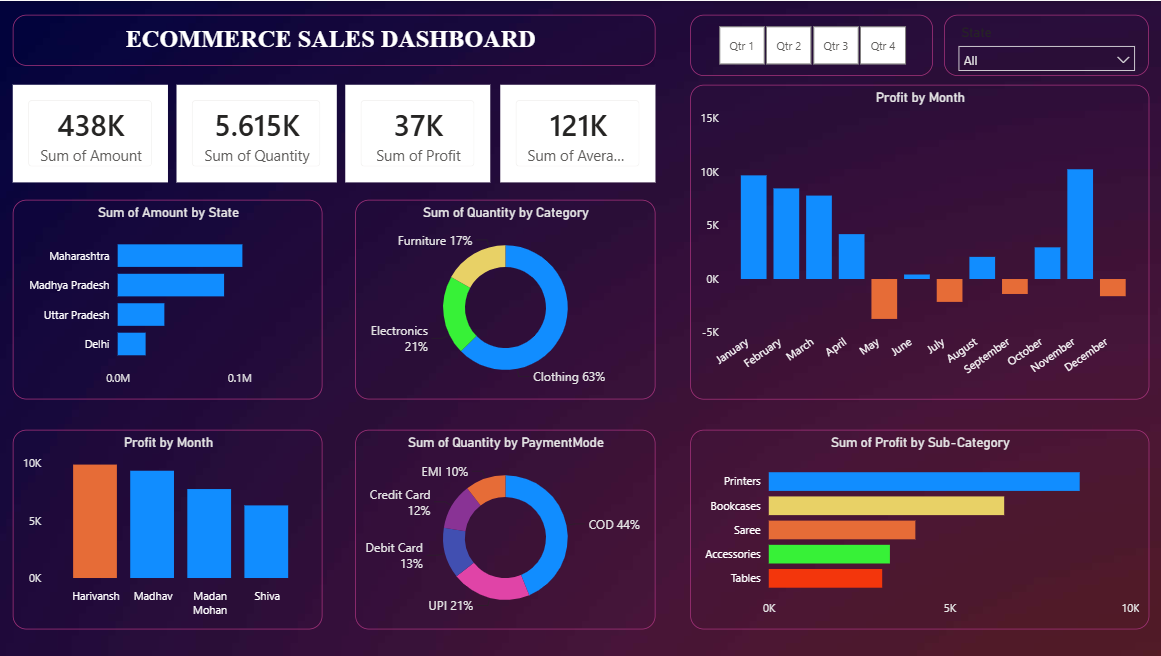

This screenshot's page, from the dashboard's own definition file:
{"tool":"powerbi","page":{"name":"Page 1","canvas":[1280,720],"ordinal":0},"visuals":[{"type":"textbox","box":[15.1,15.1,705.3,56.3],"z":0},{"type":"columnChart","title":"Profit by Month","fields":{"Y":["Sum(Details.Profit)"],"Category":["Orders.Order Date.Variation.Date Hierarchy.Month"]},"box":[758.8,91.9,503.6,345.8],"z":1000},{"type":"barChart","fields":{"Category":["Details.Sub-Category"],"Y":["Sum(Details.Profit)"]},"box":[758.8,470.7,503.6,219.6],"z":2000},{"type":"donutChart","fields":{"Category":["Details.Category"],"Y":["Sum(Details.Quantity)"]},"box":[391.1,218.2,329.3,219.6],"z":3000},{"type":"donutChart","fields":{"Y":["Sum(Details.Quantity)"],"Category":["Details.PaymentMode"]},"box":[391.1,470.7,329.3,219.6],"z":4000},{"type":"cardVisual","fields":{"Data":["Sum(Details.Amount)"]},"box":[15.1,91.9,170.2,107],"z":4001},{"type":"cardVisual","fields":{"Data":["Sum(Details.Profit)"]},"box":[380.1,91.9,159.2,107],"z":4002},{"type":"cardVisual","fields":{"Data":["Sum(Details.Quantity)"]},"box":[194.9,91.9,175.6,107],"z":4003},{"type":"cardVisual","fields":{"Data":["Sum(Details.AverageOrderValue)"]},"box":[550.3,91.9,170.2,107],"z":4004},{"type":"barChart","fields":{"Category":["Orders.State"],"Y":["Sum(Details.Amount)"]},"box":[15.1,218.2,340.3,219.6],"z":4005},{"type":"columnChart","title":"Profit by Month","fields":{"Category":["Orders.CustomerName"],"Y":["Sum(Details.Amount)"]},"box":[15.1,470.7,340.3,219.6],"z":4006},{"type":"slicer","fields":{"Values":["Orders.Order Date.Variation.Date Hierarchy.Quarter"]},"box":[758.8,15.1,266.2,67.2],"z":4007},{"type":"slicer","fields":{"Values":["Orders.State"]},"box":[1037.4,15.1,225,67.2],"z":4008}]}

Visuals, with their boxes in screenshot pixels (x1, y1, x2, y2), scaled from the page's 1280x720 canvas onto the 1161x656 screenshot:
textbox: [14, 14, 653, 65]
"Profit by Month" columnChart: [688, 84, 1145, 399]
barChart - Details.Sub-Category x Sum(Details.Profit): [688, 429, 1145, 629]
donutChart - Details.Category x Sum(Details.Quantity): [355, 199, 653, 399]
donutChart - Sum(Details.Quantity) x Details.PaymentMode: [355, 429, 653, 629]
cardVisual - Sum(Details.Amount): [14, 84, 168, 181]
cardVisual - Sum(Details.Profit): [345, 84, 489, 181]
cardVisual - Sum(Details.Quantity): [177, 84, 336, 181]
cardVisual - Sum(Details.AverageOrderValue): [499, 84, 654, 181]
barChart - Orders.State x Sum(Details.Amount): [14, 199, 322, 399]
"Profit by Month" columnChart: [14, 429, 322, 629]
slicer - Orders.Order Date.Variation.Date Hierarchy.Quarter: [688, 14, 930, 75]
slicer - Orders.State: [941, 14, 1145, 75]
